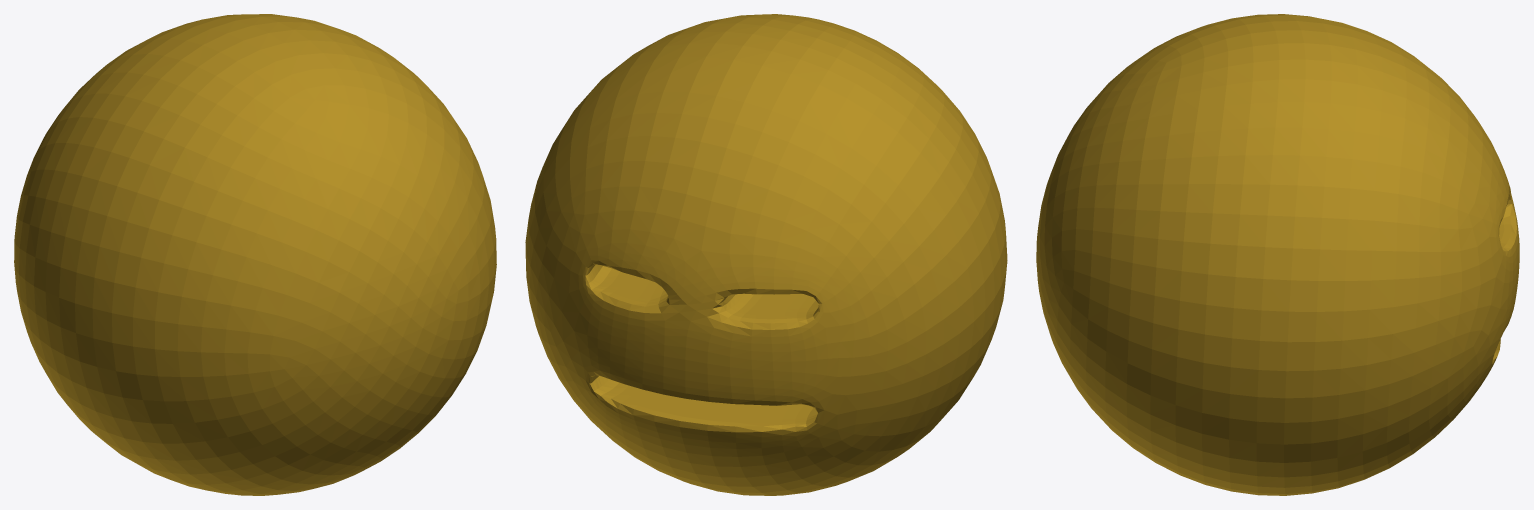
The model's file is expressionless.obj.
3 views of the same model, side by side, from view 1: azimuth 30°, elevation 25°; view 2: azimuth 150°, elevation 25°; view 3: azimuth 270°, elevation 25° (orthographic).
Parts seen in each view (by area): view 1: Group22640; view 2: Group22640; view 3: Group22640.
Part boxes in pixels (box(x1,y1,x2,y2)): Group22640: box(14, 14, 496, 495); Group22640: box(525, 14, 1007, 495); Group22640: box(1036, 14, 1519, 495).
Bounding box in the file's own units: 2.2 × 2.2 × 2.21.
